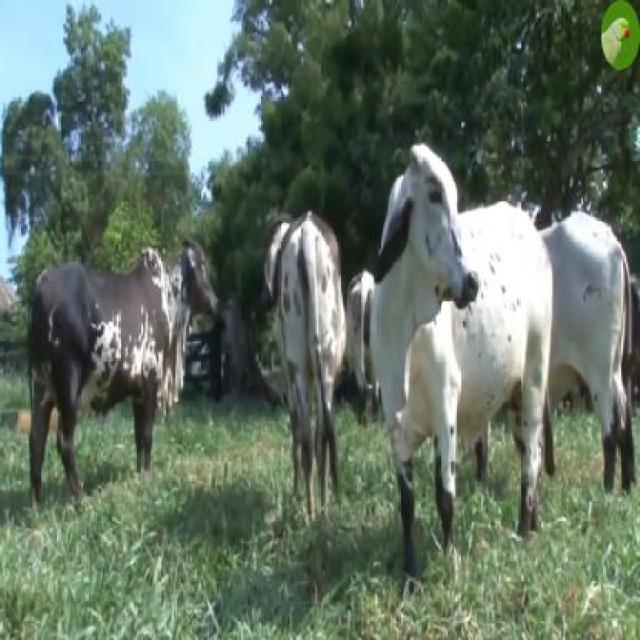Cow: (371, 140, 554, 545)
